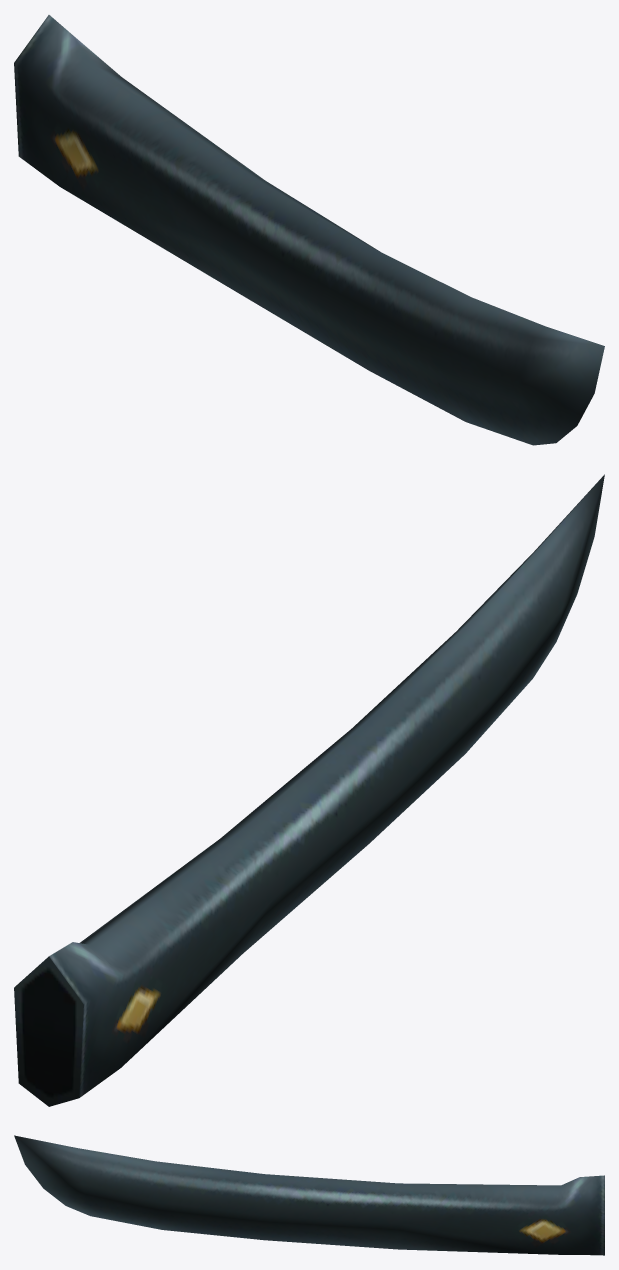
The picture shows the model from 3 angles, top to bottom: view 1: azimuth 30°, elevation 25°; view 2: azimuth 150°, elevation 25°; view 3: azimuth 270°, elevation 25°; orthographic projection. The views are drawn at different scales.
Parts seen in each view (by area): view 1: mSaya; view 2: mSaya; view 3: mSaya.
Boxes of the visible parts, x1,y1,x2,y2 form: mSaya: (14,15,604,445); mSaya: (14,474,604,1106); mSaya: (14,1135,604,1255).
Size of the model in its own units: 0.0469 by 0.1448 by 0.6459.
